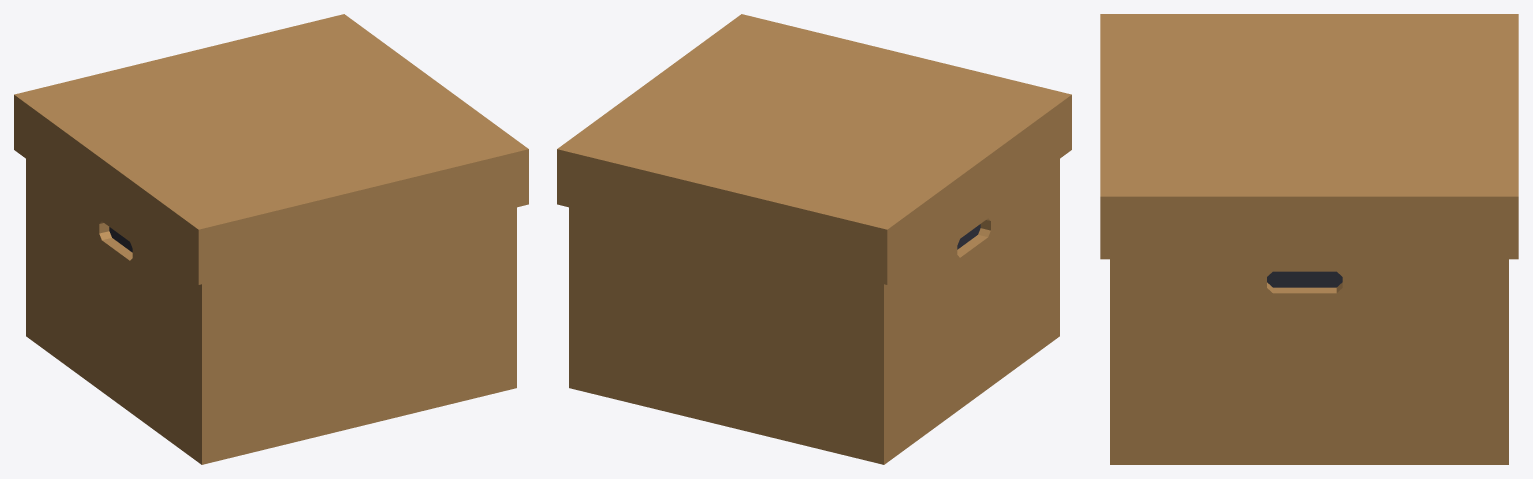
File: fbx_club_box.fbx
3 renders of one model, left to right at view 1: azimuth 30°, elevation 25°; view 2: azimuth 150°, elevation 25°; view 3: azimuth 270°, elevation 25°, orthographic. The views are drawn at different scales.
Parts seen in each view (by area): view 1: fbx_club_box; view 2: fbx_club_box; view 3: fbx_club_box.
Boxes of the visible parts, box(x1,y1,x2,y2) form: fbx_club_box: box(14, 14, 528, 464); fbx_club_box: box(557, 14, 1071, 464); fbx_club_box: box(1100, 14, 1518, 464).
Bounding box in the file's own units: 1.69 × 1.18 × 1.64.
1 material, 1 textured.
